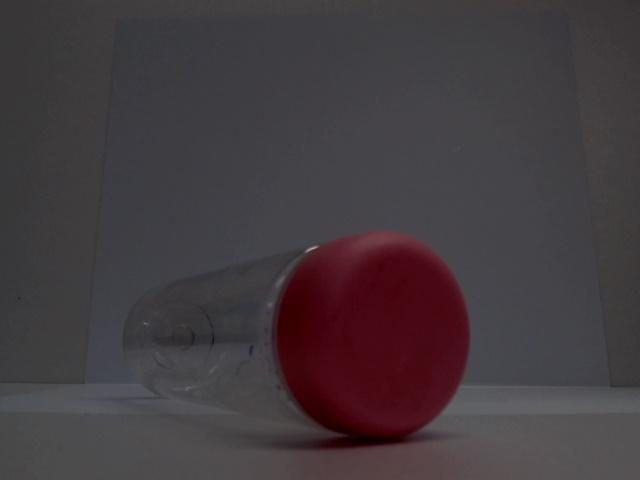bottle: (102, 234, 492, 429)
